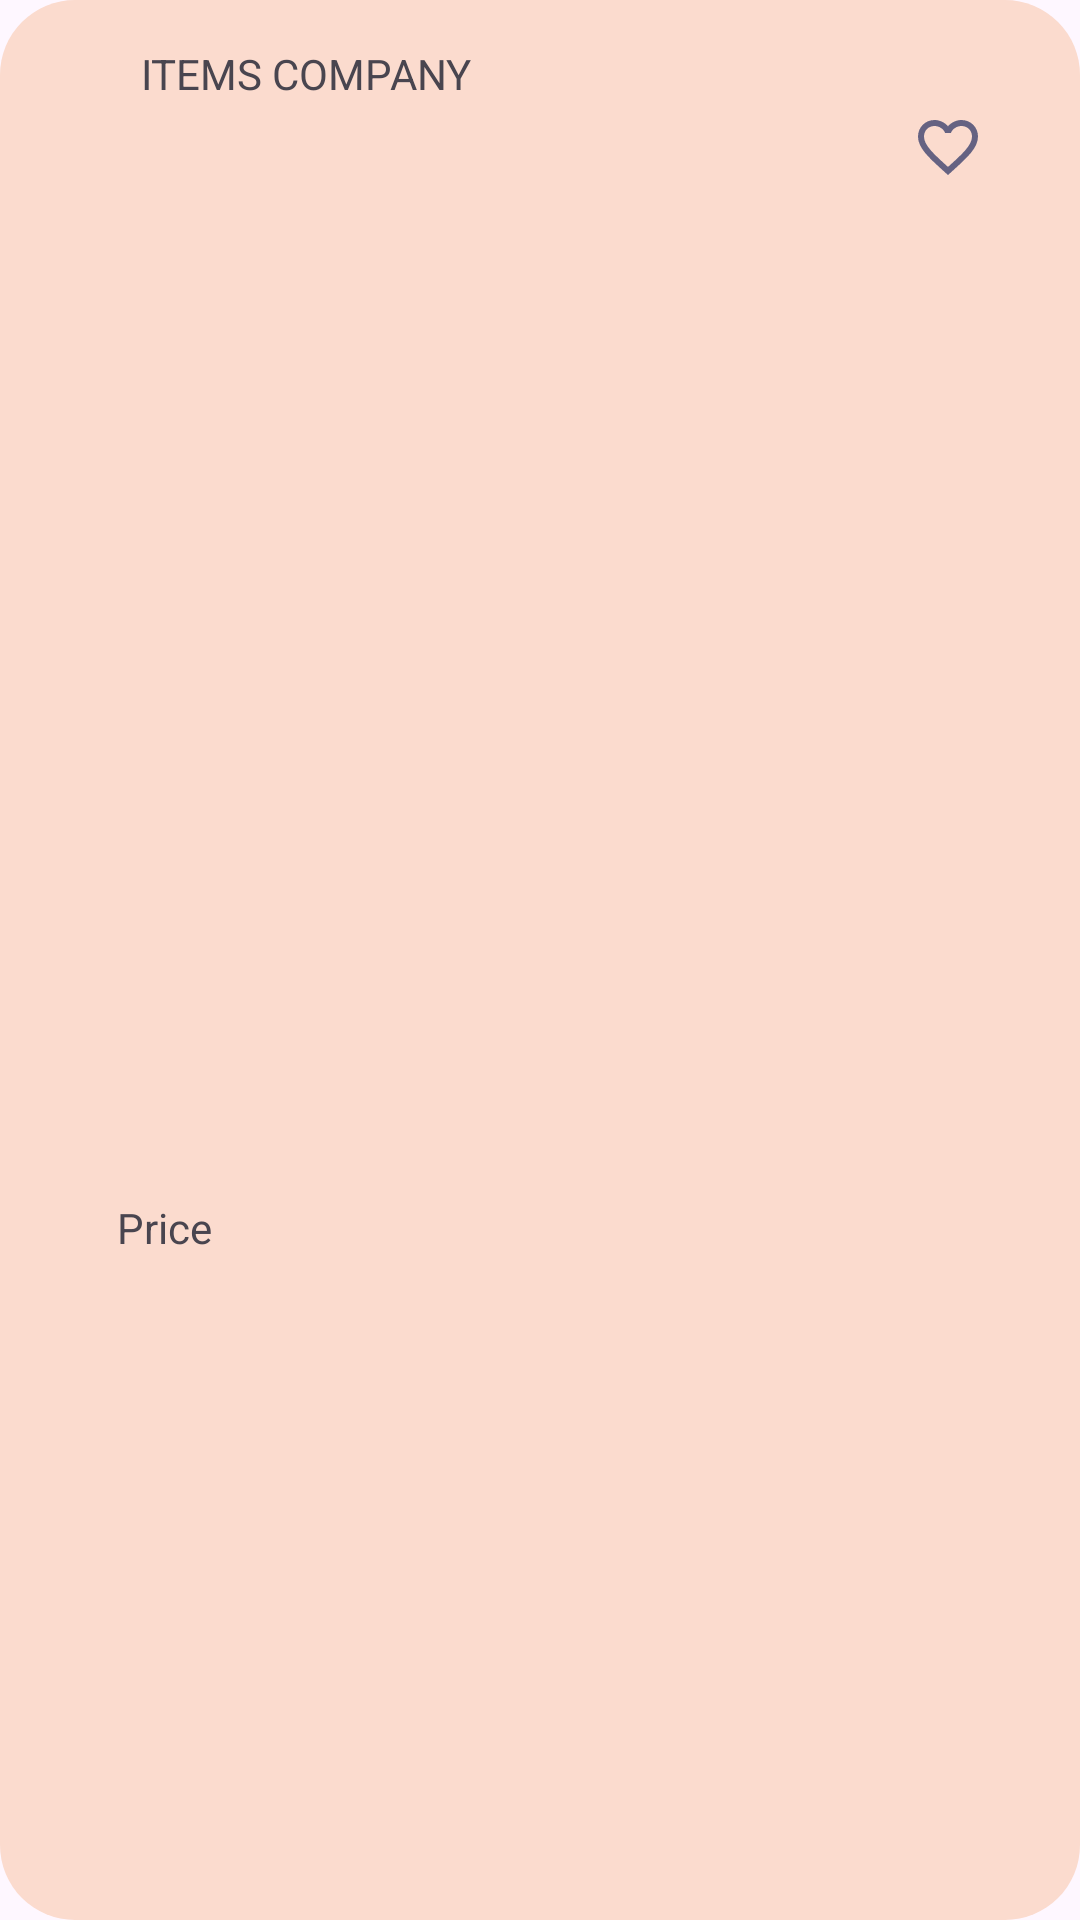

Point at icon controls on the screen. Image size 1080px×1920px, points as [x,y].
favorite border: [948,147]
